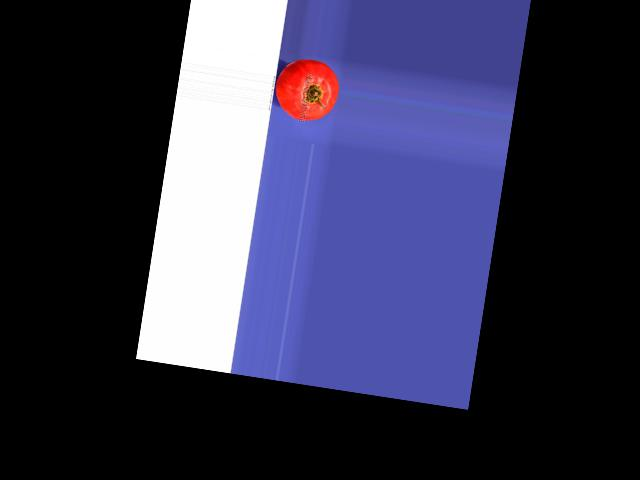tomato: (272, 54, 342, 124)
